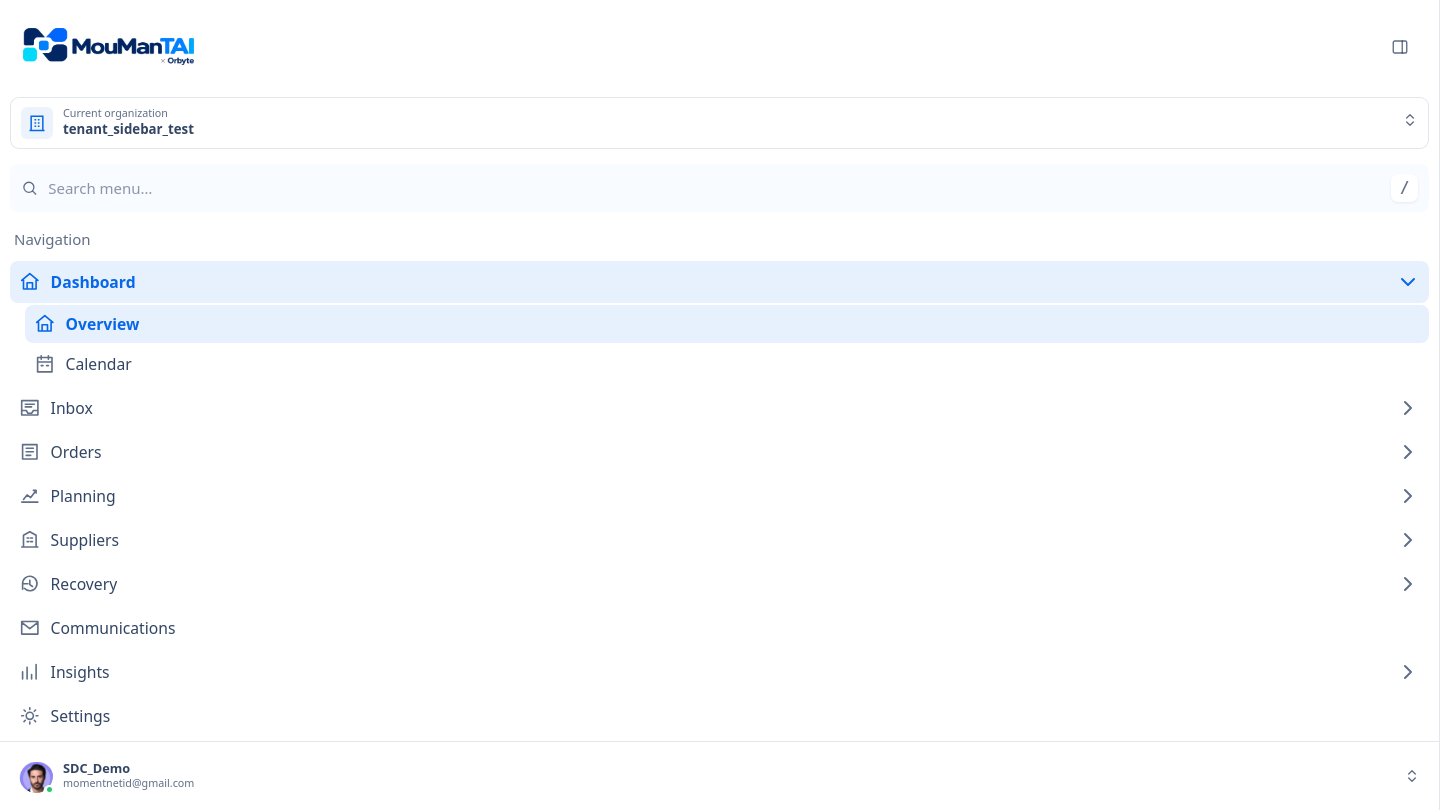
Scenario: shared sidebar navigation › toggles downward navigation menus on click
// Click to open
Click the button "Orders" at (76, 452), box [10, 431, 1429, 473]
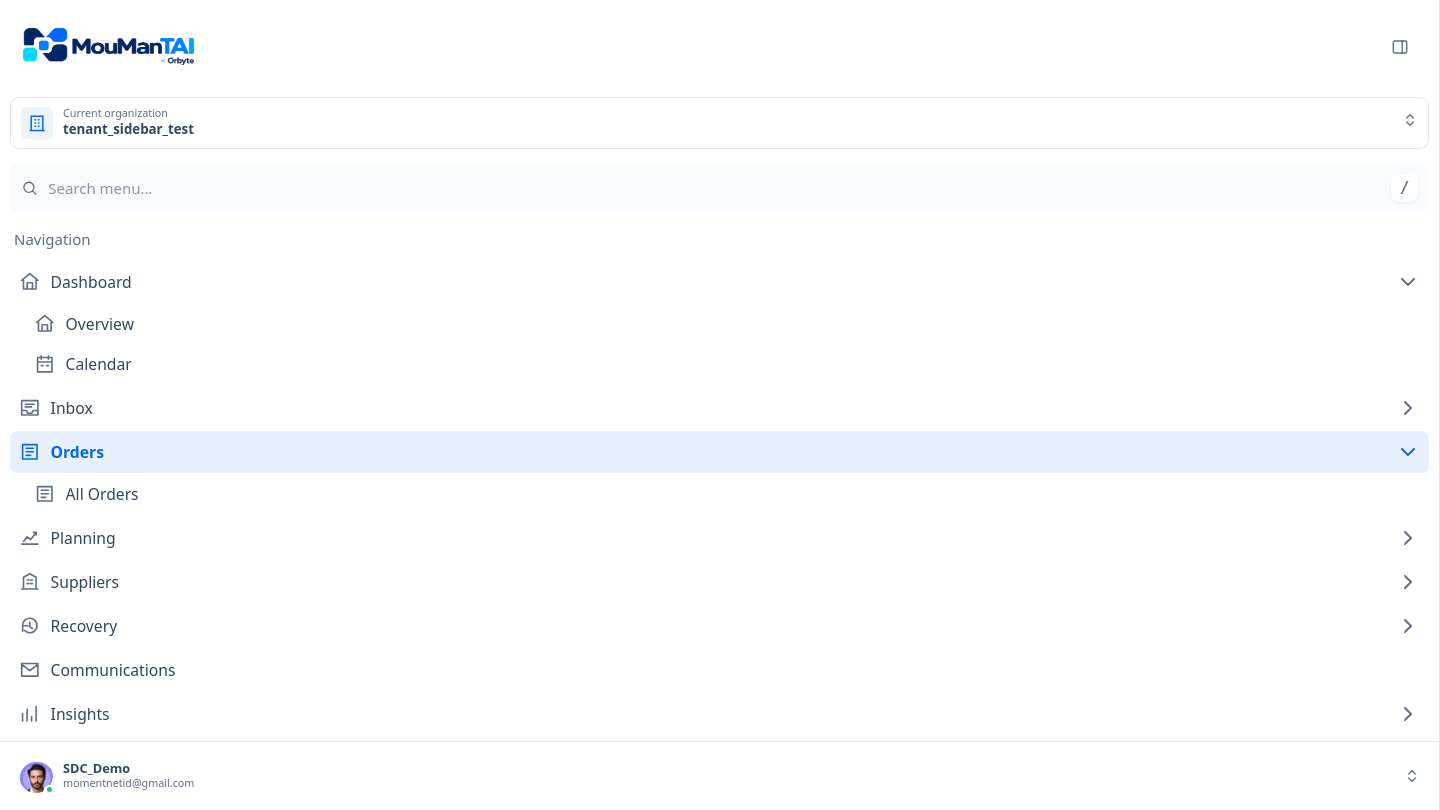
Expected: the button "Orders" is expanded
// Click to close
Click the button "Orders" at (77, 452), box [10, 431, 1429, 473]
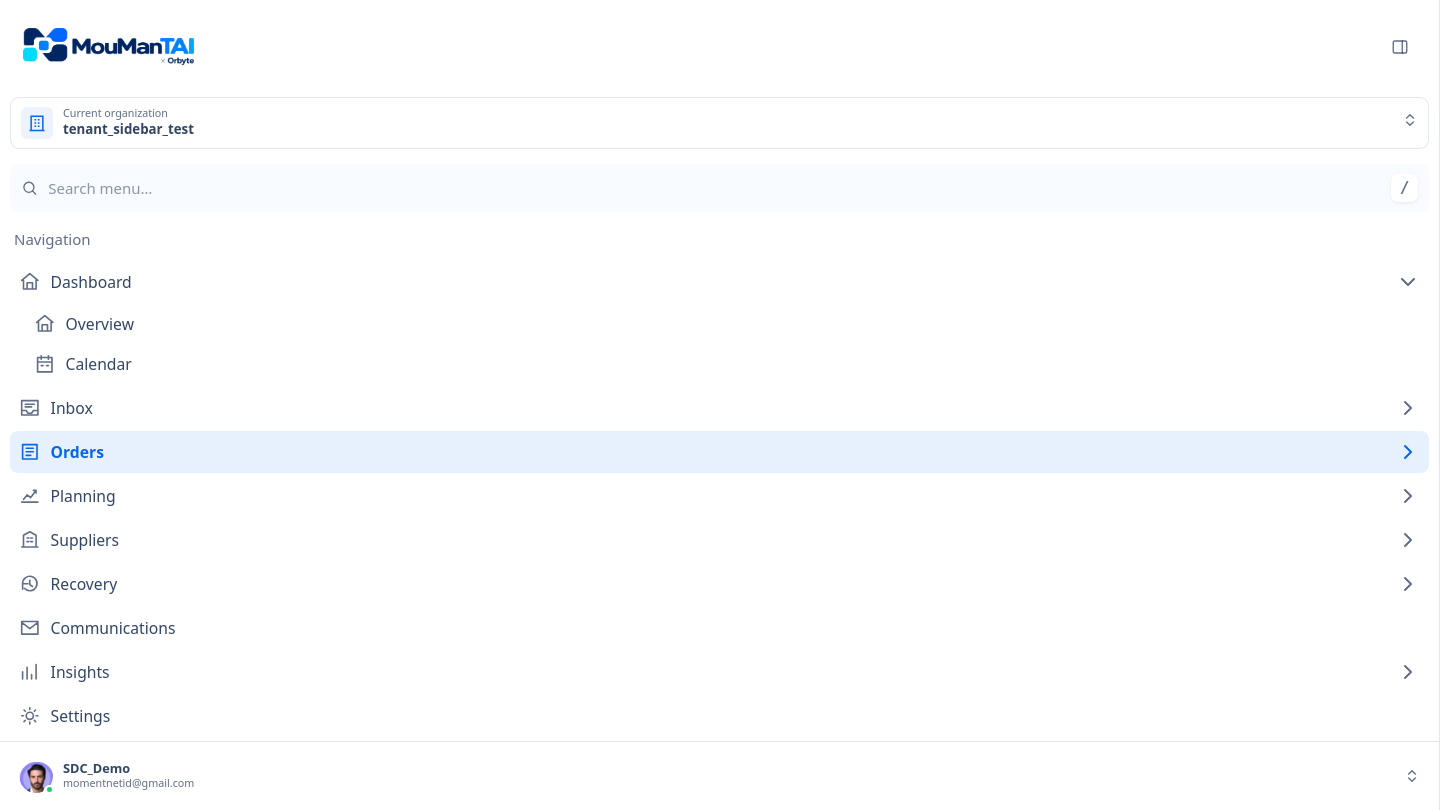
Expected: the button "Orders" is collapsed, [10, 431, 1429, 473]
